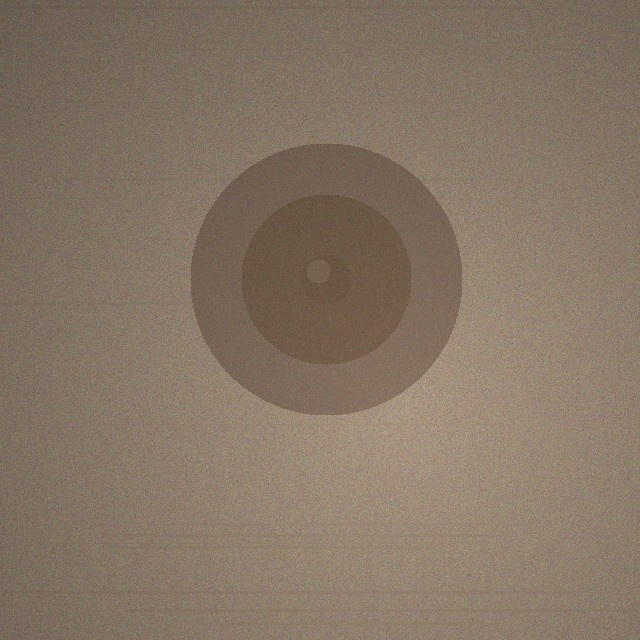good: (190, 143, 462, 415)
